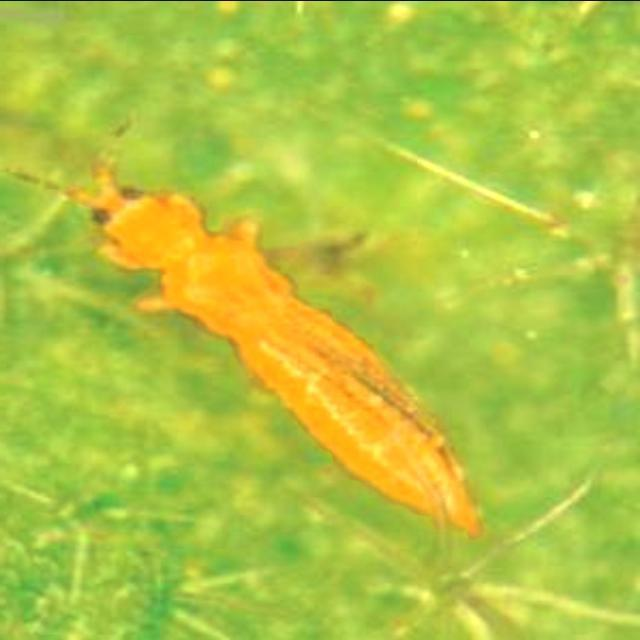melon thrips: (56, 133, 516, 569)
